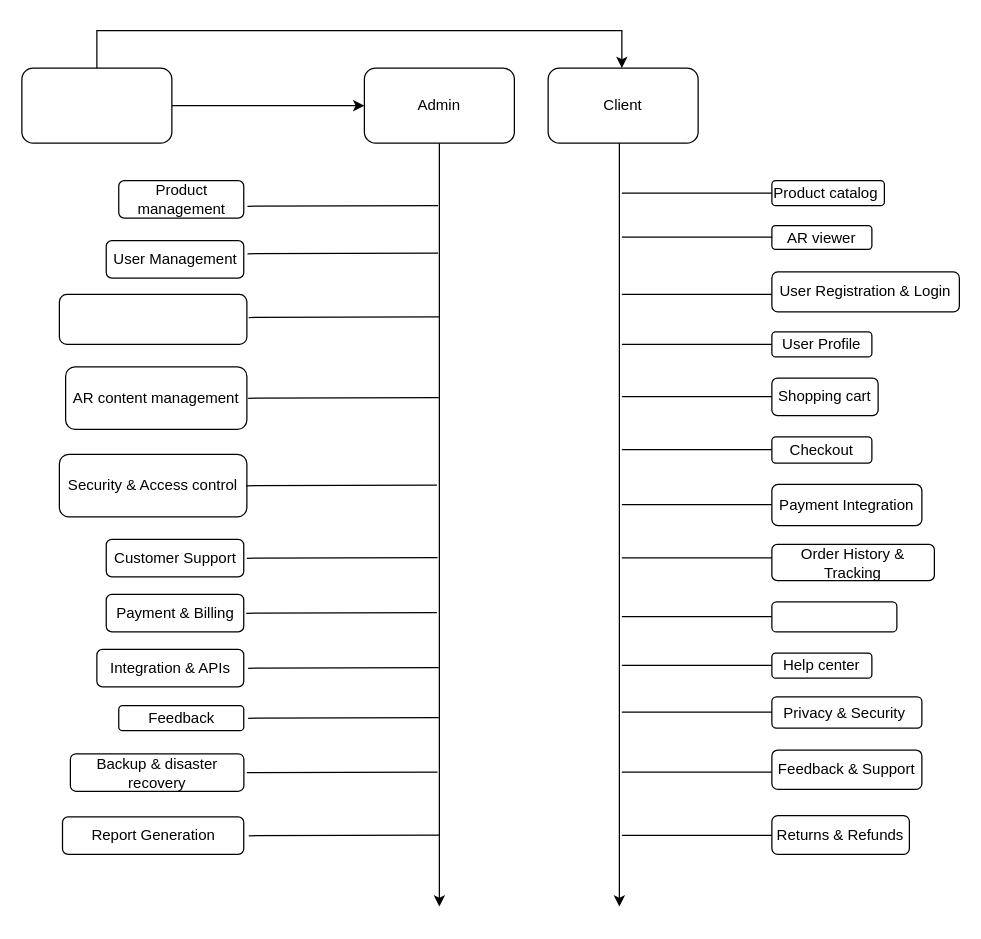
Image size: 981x939. Some labels were removed from this diagram. The centre of each missing label's shape, as x and y in pixels:
"Basic Modules" belongs at point 96,105.
"Orders & Inventory Management" belongs at point 152,318.
"Product Review" belongs at point 834,616.
